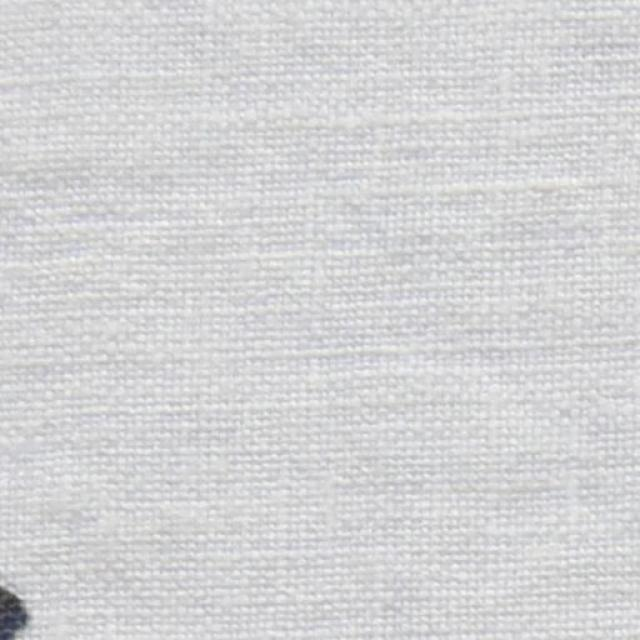Stain: (0, 589, 26, 639)
